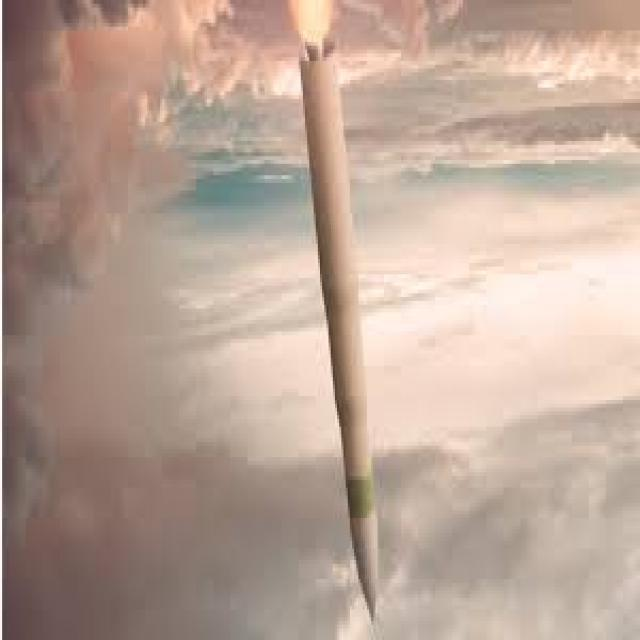missile: (293, 37, 382, 616)
